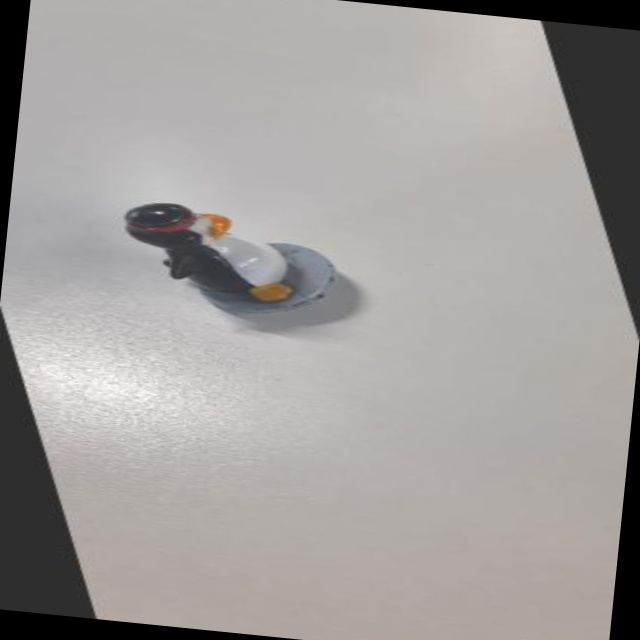Penguin: (99, 182, 389, 343)
